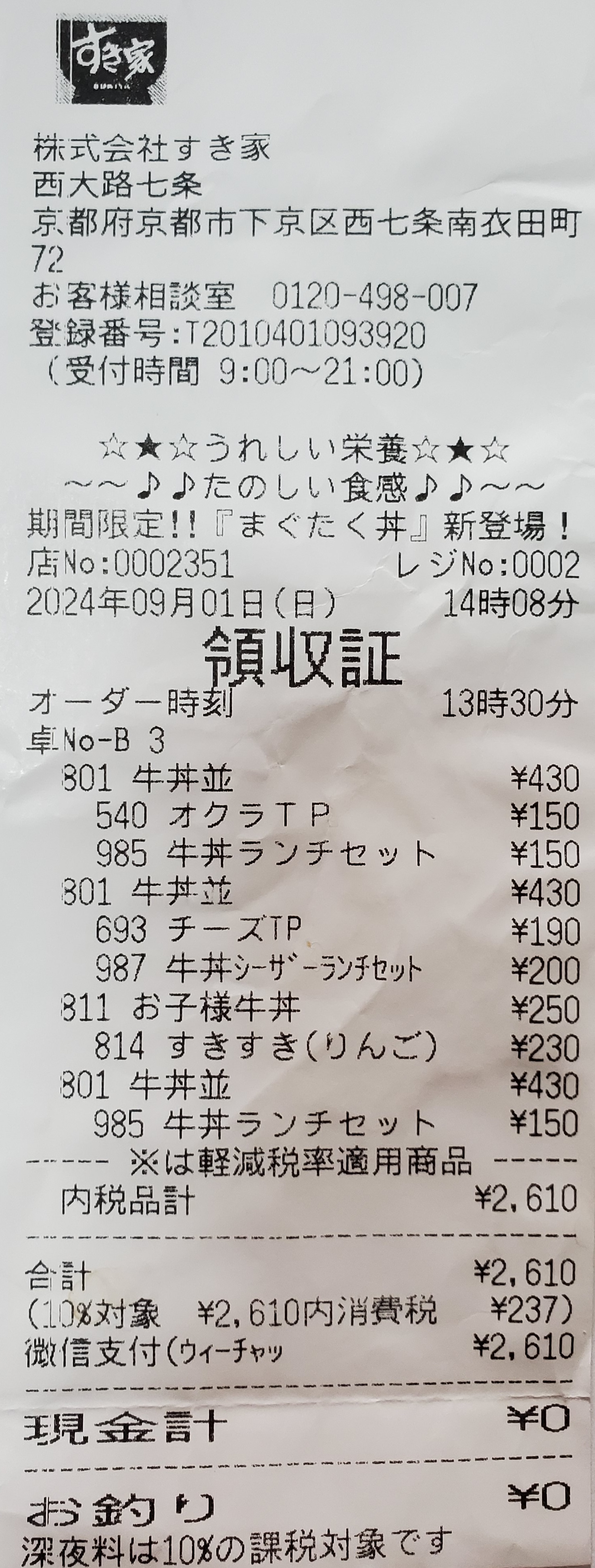Date: (23, 583, 267, 623)
Shopname: (54, 9, 215, 114)
Telnum: (265, 276, 487, 319)
Totalpay: (21, 1247, 595, 1294)
